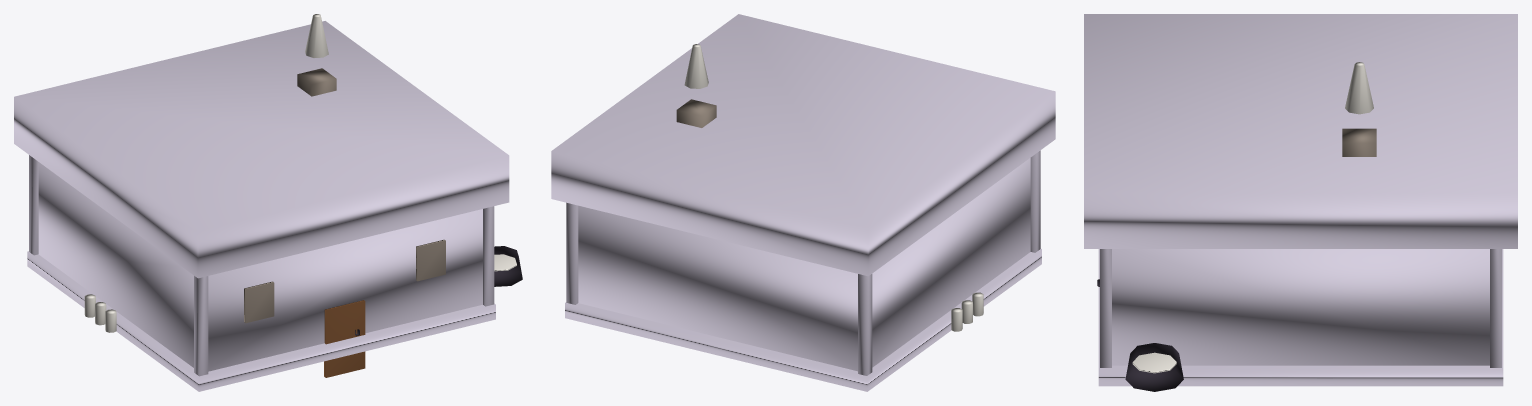
Rendered from alchemist.glb.
3 renders of one model, left to right at view 1: azimuth 30°, elevation 25°; view 2: azimuth 150°, elevation 25°; view 3: azimuth 270°, elevation 25°, orthographic. The views are drawn at different scales.
Parts seen in each view (by area): view 1: cottage, door, window_left, window_right, chimney, smoke, cauldron_base; view 2: cottage, chimney, smoke; view 3: cottage, cauldron_base, smoke, chimney, cauldron_glow.
Boxes of the visible parts, left/top/right/bottom form: cottage: left=14, top=21, right=509, bottom=391; door: left=324, top=300, right=365, bottom=377; window_left: left=244, top=281, right=274, bottom=323; window_right: left=416, top=239, right=445, bottom=281; chimney: left=297, top=68, right=336, bottom=96; smoke: left=305, top=14, right=328, bottom=57; cauldron_base: left=494, top=246, right=522, bottom=286; cottage: left=551, top=14, right=1055, bottom=391; chimney: left=676, top=99, right=716, bottom=127; smoke: left=684, top=44, right=708, bottom=88; cottage: left=1084, top=14, right=1517, bottom=386; cauldron_base: left=1125, top=343, right=1183, bottom=391; smoke: left=1345, top=62, right=1373, bottom=114; chimney: left=1342, top=128, right=1376, bottom=156; cauldron_glow: left=1132, top=352, right=1176, bottom=373.
Bounding box in the file's own units: 10.14 × 6.9 × 8.9.
